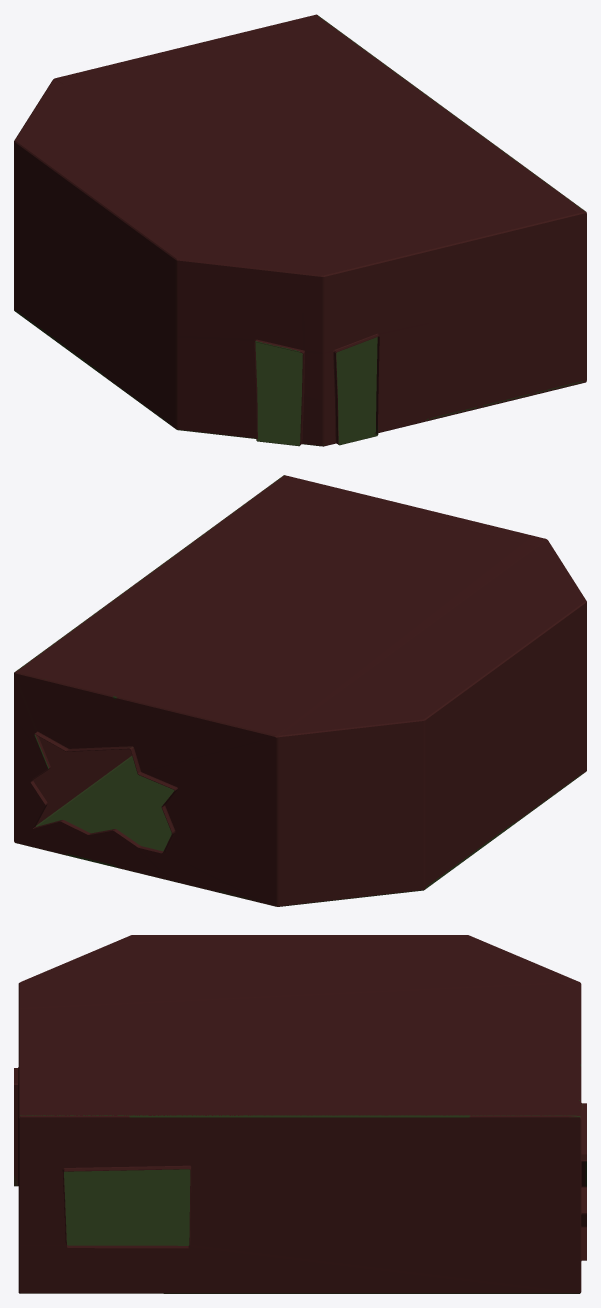
Rendered from mur chambre Explosion 2.fbx.
The picture shows the model from 3 angles, top to bottom: view 1: azimuth 30°, elevation 25°; view 2: azimuth 150°, elevation 25°; view 3: azimuth 270°, elevation 25°; orthographic projection. The views are drawn at different scales.
Parts seen in each view (by area): view 1: Piece; view 2: Piece; view 3: Piece.
Boxes of the visible parts, left/top/right/bottom form: Piece: left=14, top=14, right=586, bottom=446; Piece: left=14, top=475, right=586, bottom=906; Piece: left=14, top=935, right=586, bottom=1293.
Size of the model in its own units: 811 by 366 by 1066.
